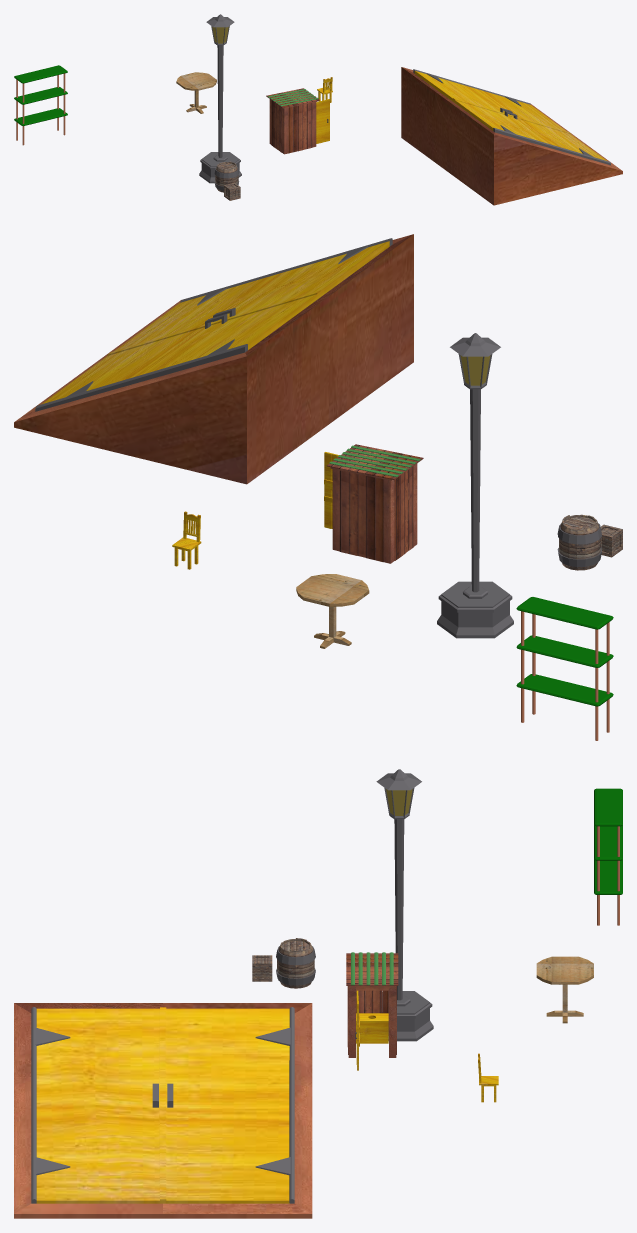
File: Complementos_Fazenda.fbx
The picture shows the model from 3 angles, top to bottom: view 1: azimuth 30°, elevation 25°; view 2: azimuth 150°, elevation 25°; view 3: azimuth 270°, elevation 25°; orthographic projection. The views are drawn at different scales.
Visible parts, largest first — view 1: Portas, Banheiro, apoio_itens, Poste_Luz, Mesa.001, Porta, Barril; view 2: Portas, Banheiro, Poste_Luz, apoio_itens, Mesa.001, Barril, SuporteCostas.001, Porta; view 3: Portas, Banheiro, Poste_Luz, apoio_itens, Mesa.001, Barril.
Part boxes in pixels (bbox=[...]): Portas: bbox=[401, 67, 622, 205]; Banheiro: bbox=[266, 88, 319, 154]; apoio_itens: bbox=[14, 65, 67, 145]; Poste_Luz: bbox=[199, 14, 241, 183]; Mesa.001: bbox=[176, 72, 216, 113]; Porta: bbox=[316, 99, 329, 143]; Barril: bbox=[214, 161, 239, 192]; Portas: bbox=[14, 234, 413, 484]; Banheiro: bbox=[326, 444, 423, 563]; Poste_Luz: bbox=[437, 333, 513, 638]; apoio_itens: bbox=[516, 597, 613, 740]; Mesa.001: bbox=[296, 574, 369, 648]; Barril: bbox=[557, 514, 601, 570]; SuporteCostas.001: bbox=[172, 511, 201, 569]; Porta: bbox=[324, 452, 339, 528]; Portas: bbox=[14, 1003, 312, 1218]; Banheiro: bbox=[346, 952, 398, 1057]; Poste_Luz: bbox=[376, 769, 433, 1041]; apoio_itens: bbox=[594, 788, 622, 925]; Mesa.001: bbox=[536, 956, 593, 1023]; Barril: bbox=[276, 938, 315, 988].
Bounding box in the file's own units: 1494 × 547 × 1164.
